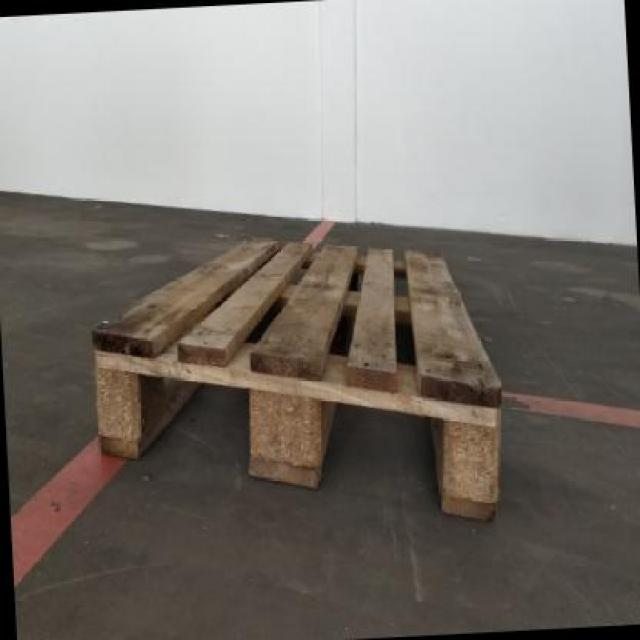block: (245, 355, 328, 492), (430, 381, 508, 524), (88, 326, 146, 464)
front: (80, 318, 514, 532)
